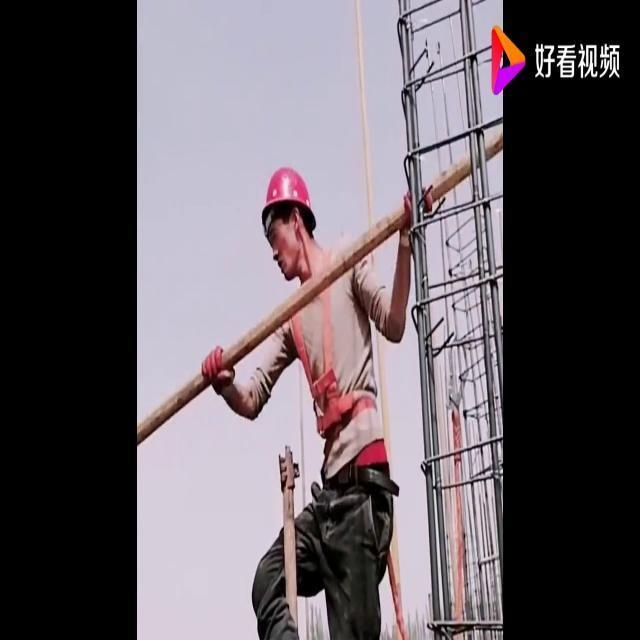Arnes_seguridad: (285, 243, 383, 445)
